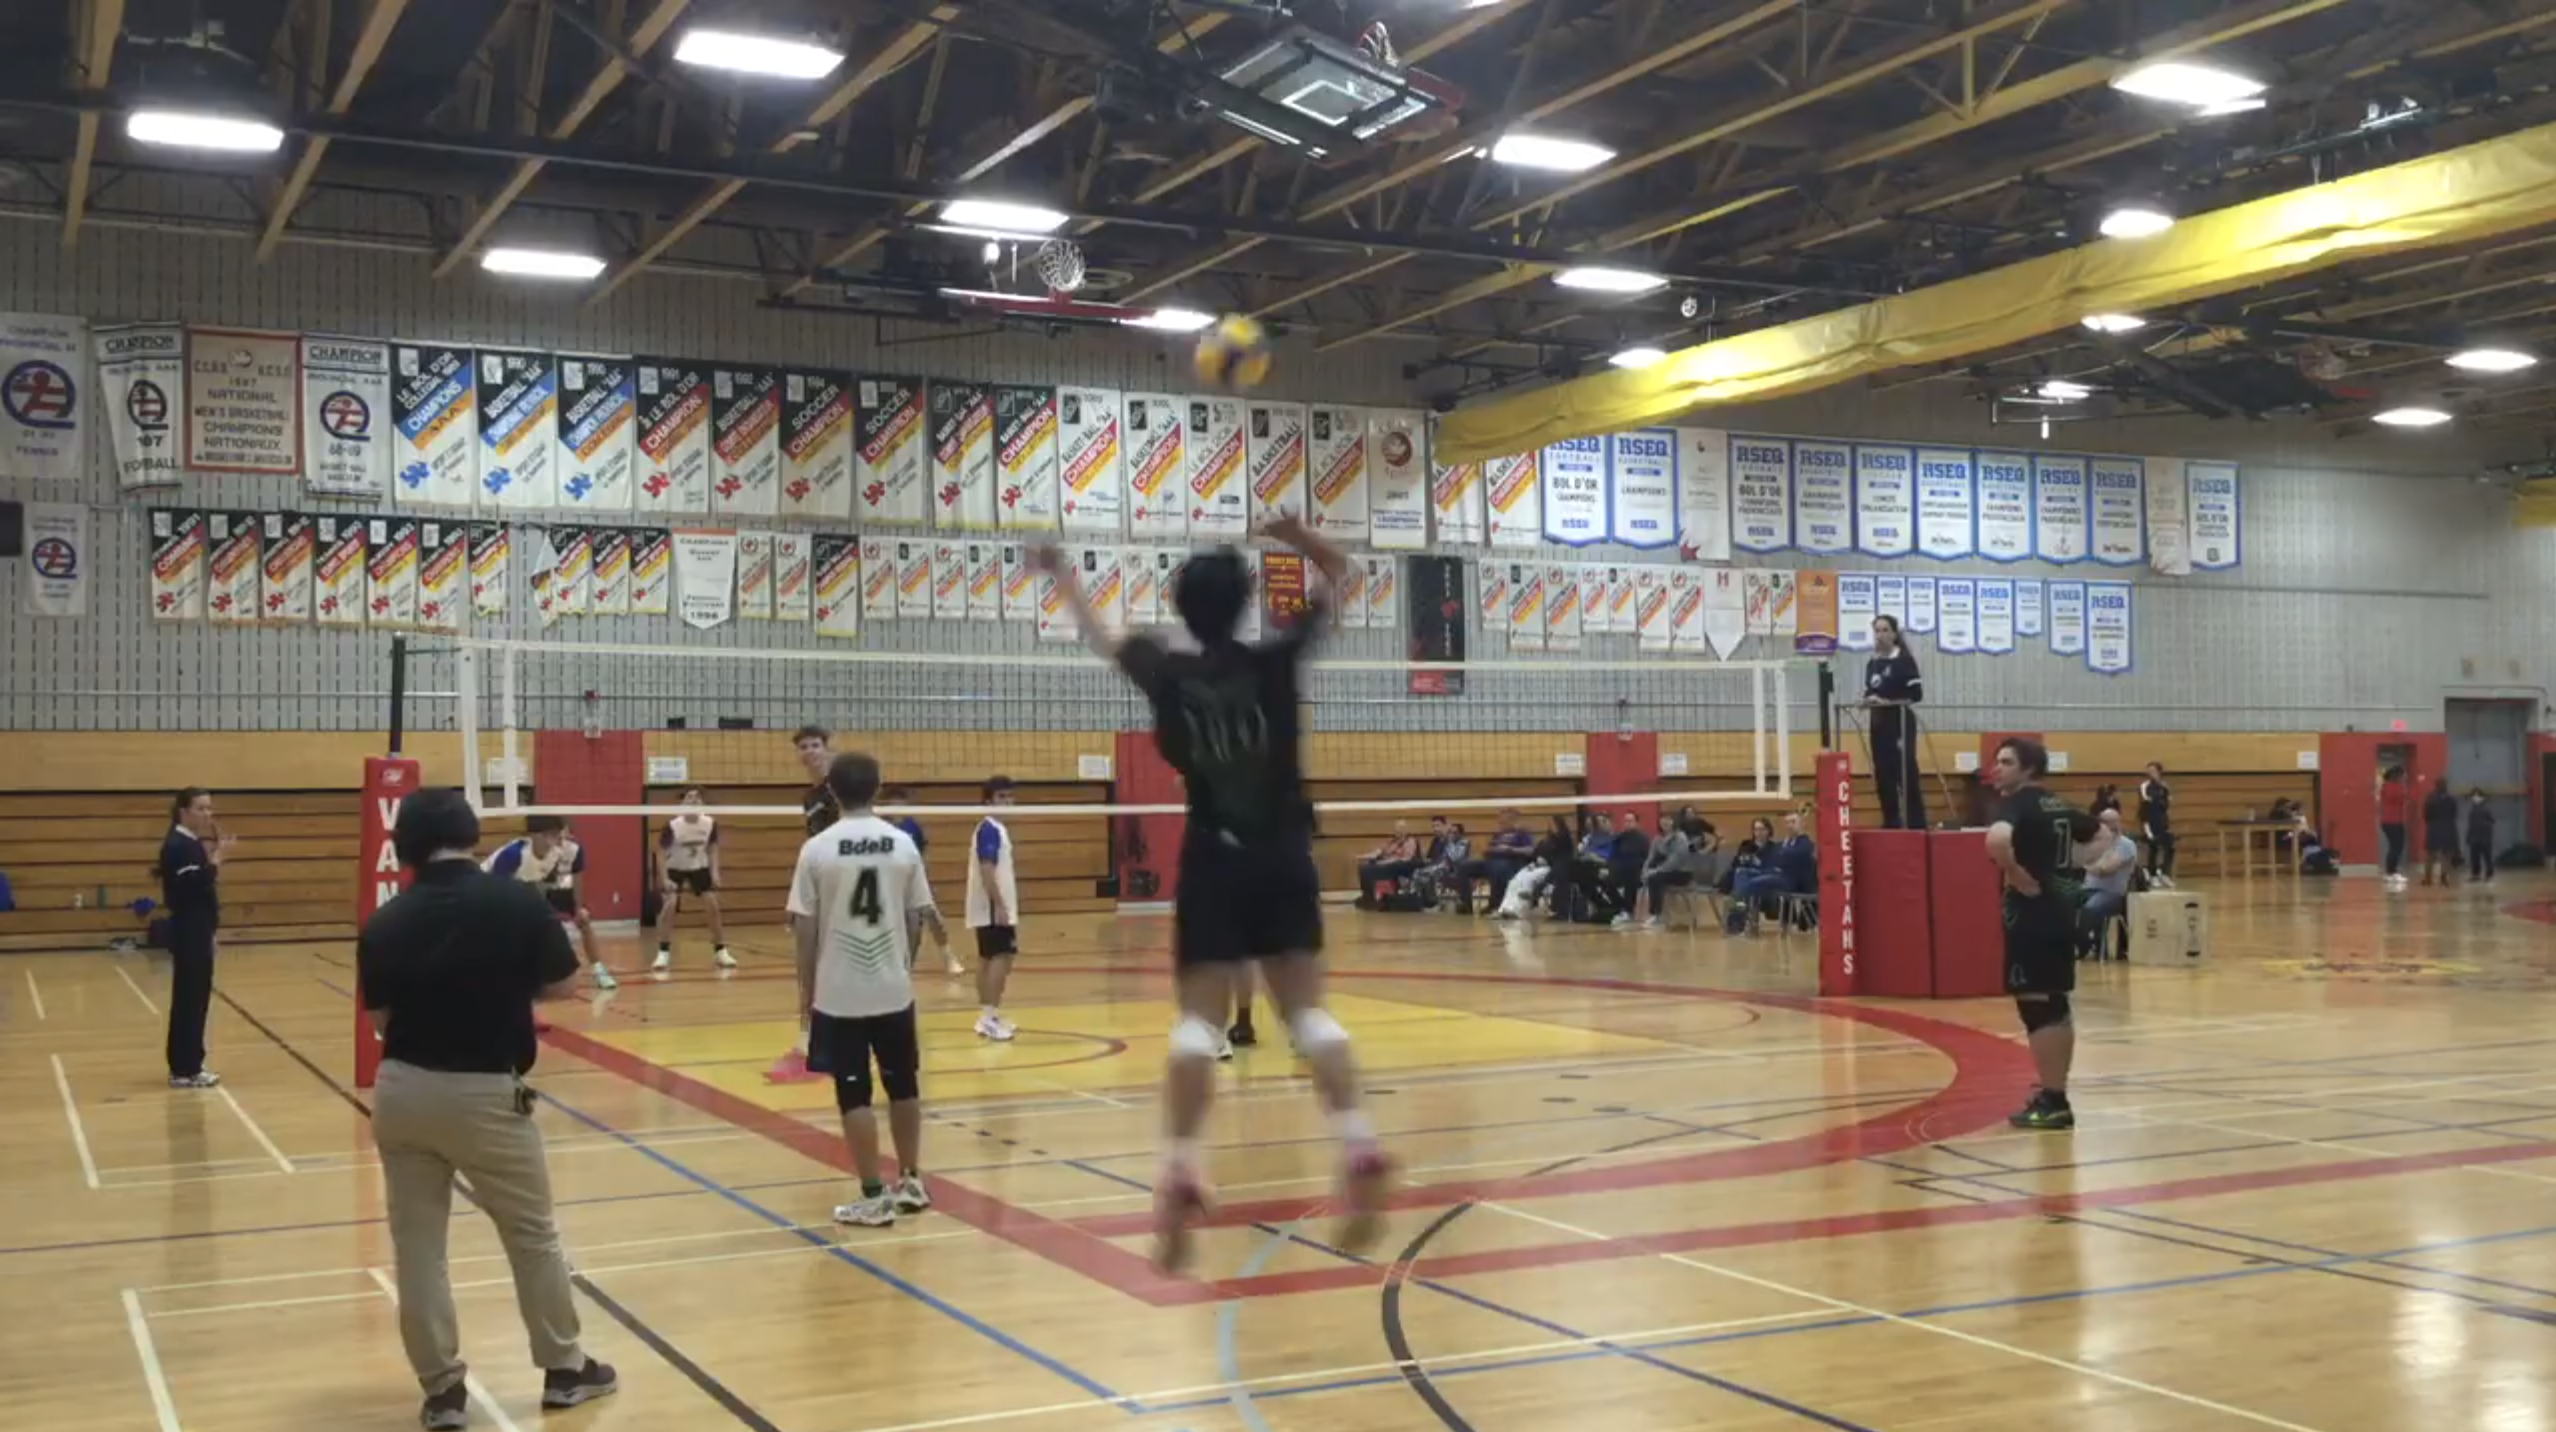Ball: (1190, 309, 1274, 397)
